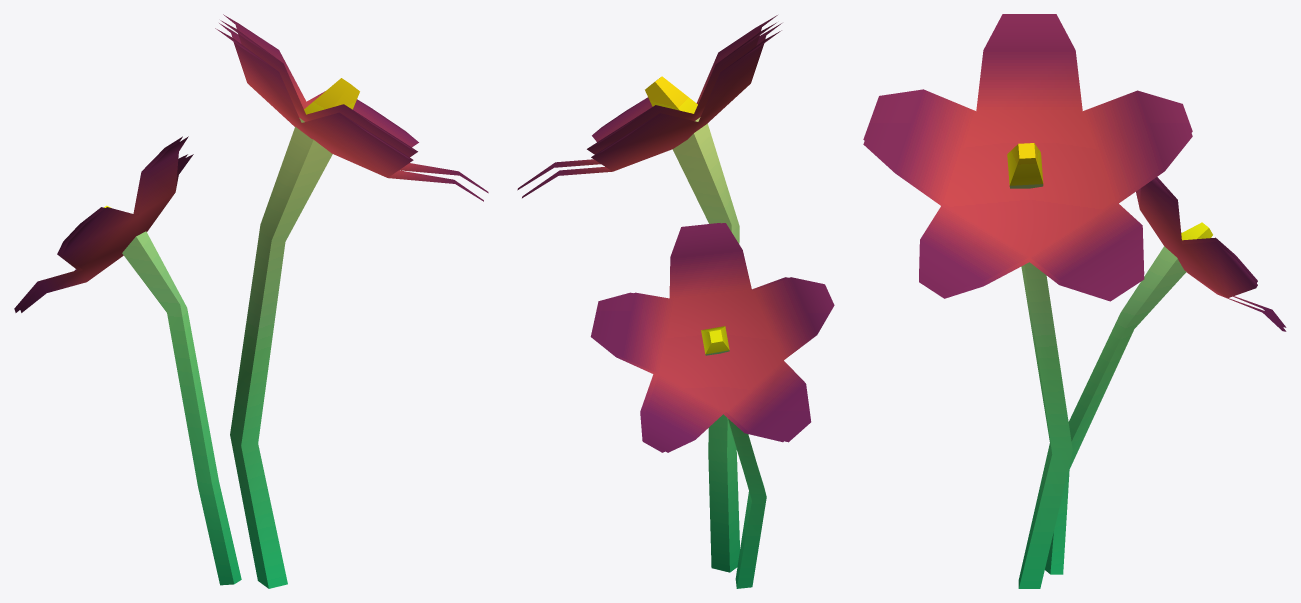
File: Flowers.fbx
3 views of the same model, side by side, from view 1: azimuth 30°, elevation 25°; view 2: azimuth 150°, elevation 25°; view 3: azimuth 270°, elevation 25° (orthographic). The views are drawn at different scales.
Visible parts, largest first — view 1: polySurface5; view 2: polySurface5; view 3: polySurface5.
Part boxes in pixels (x1,y1,x2,y2): polySurface5: (14, 14, 488, 588); polySurface5: (517, 15, 834, 588); polySurface5: (863, 14, 1286, 588).
Size of the model in its own units: 4.33 by 6.76 by 4.67.
